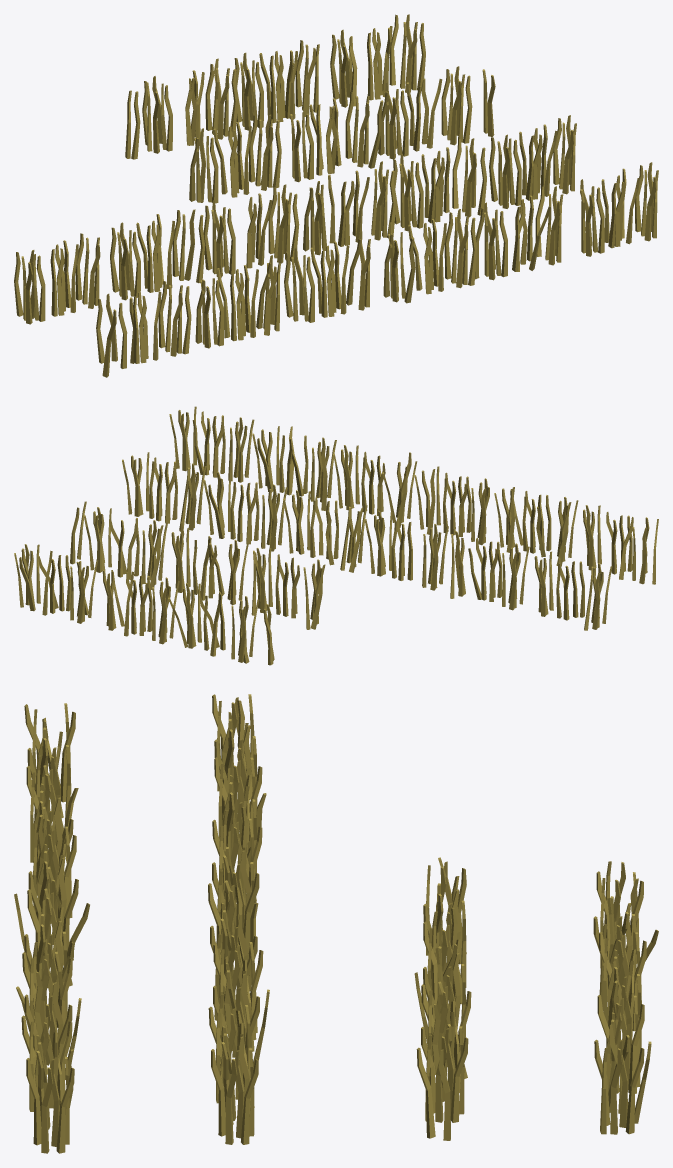
File: Farm_SecondAge_Level2_Wheat.glb
3 renders of one model, top to bottom at view 1: azimuth 30°, elevation 25°; view 2: azimuth 150°, elevation 25°; view 3: azimuth 270°, elevation 25°, orthographic. The views are drawn at different scales.
Visible parts, largest first — view 1: Farm_SecondAge_Level2_Wheat; view 2: Farm_SecondAge_Level2_Wheat; view 3: Farm_SecondAge_Level2_Wheat.
Part boxes in pixels (box(x1,y1,x2,y2)): Farm_SecondAge_Level2_Wheat: box(14, 14, 658, 377); Farm_SecondAge_Level2_Wheat: box(14, 406, 658, 665); Farm_SecondAge_Level2_Wheat: box(14, 694, 658, 1153).
Bounding box in the file's own units: 1.51 × 0.1883 × 1.1.
